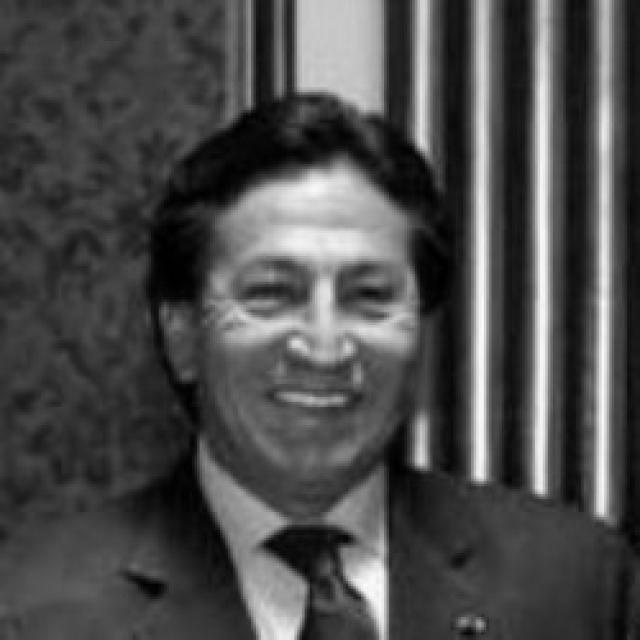real: (206, 164, 428, 492), (231, 248, 408, 326)
